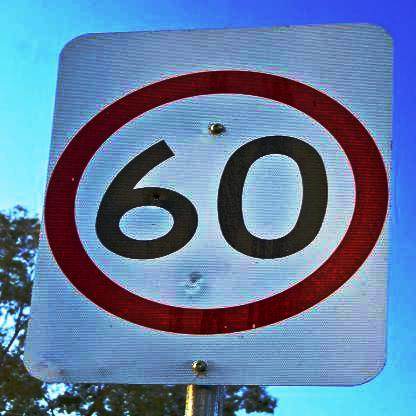Speed Limit -60-: (36, 69, 395, 342)
